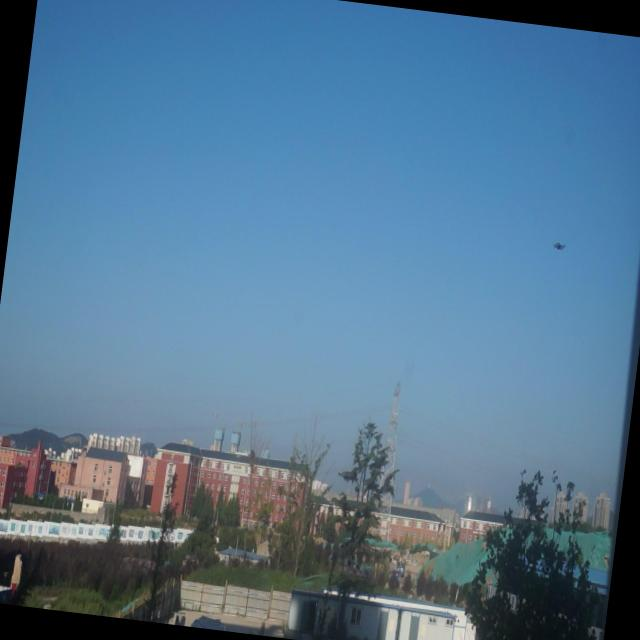drone: (546, 236, 570, 258)
